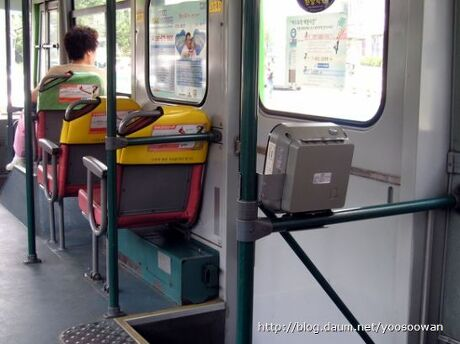exit: (240, 1, 431, 344)
